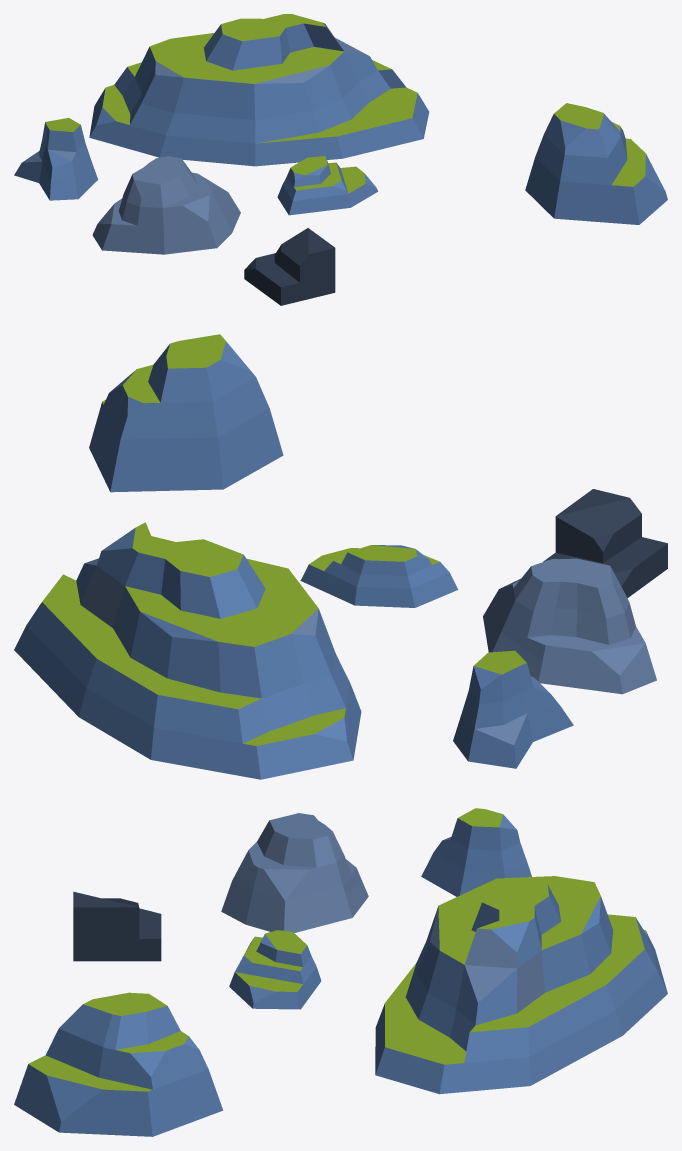
Rendered from Cliffs.fbx.
3 renders of one model, top to bottom at view 1: azimuth 30°, elevation 25°; view 2: azimuth 150°, elevation 25°; view 3: azimuth 270°, elevation 25°, orthographic. The views are drawn at different scales.
Parts seen in each view (by area): view 1: Circle.002, Circle.001, Circle.004, Cube.004, Circle.003, Circle; view 2: Circle.002, Circle.001, Circle.004, Circle.003, Cube.004, Circle; view 3: Circle.002, Circle.001, Circle.004, Circle.003, Cube.004, Circle.
Part boxes in pixels (<box>): Circle.002: <box>89,14,429,166</box>; Circle.001: <box>525,103,667,224</box>; Circle.004: <box>92,156,240,254</box>; Cube.004: <box>244,228,335,305</box>; Circle.003: <box>14,118,98,200</box>; Circle: <box>277,156,378,215</box>; Circle.002: <box>14,522,361,779</box>; Circle.001: <box>89,334,283,492</box>; Circle.004: <box>483,558,656,694</box>; Circle.003: <box>453,650,573,768</box>; Cube.004: <box>543,489,667,597</box>; Circle: <box>300,545,458,607</box>; Circle.002: <box>375,876,667,1094</box>; Circle.001: <box>14,992,223,1136</box>; Circle.004: <box>221,813,368,932</box>; Circle.003: <box>421,808,531,896</box>; Cube.004: <box>73,891,161,961</box>; Circle: <box>229,930,321,1009</box>.
Size of the model in its own units: 3746 by 789 by 3714.
